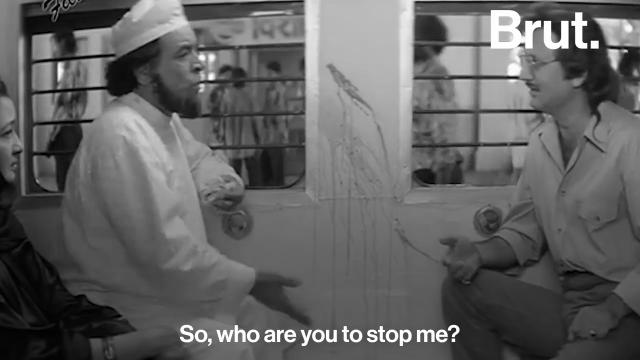spit: (312, 54, 388, 206)
